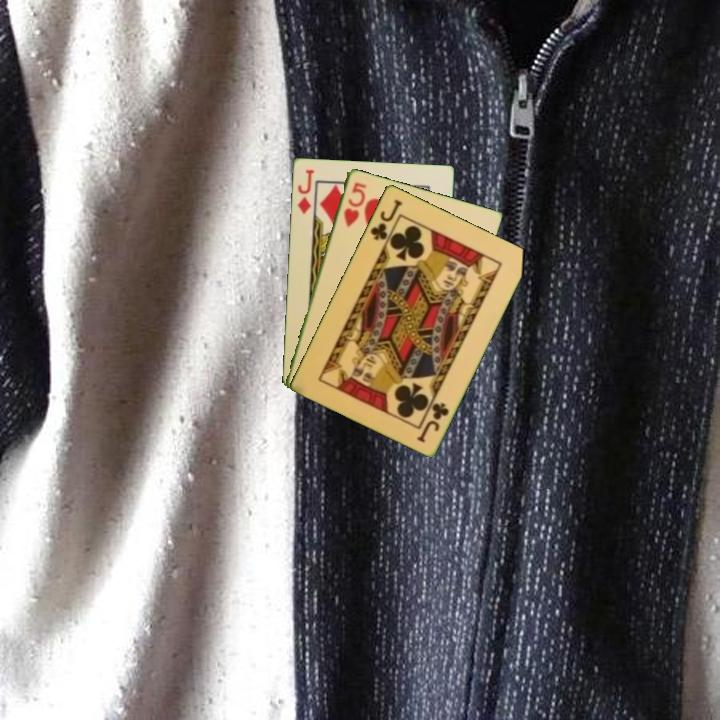5h: (340, 178, 369, 230)
Jc: (366, 195, 405, 243), (413, 398, 452, 445)
Jd: (293, 166, 317, 217)
